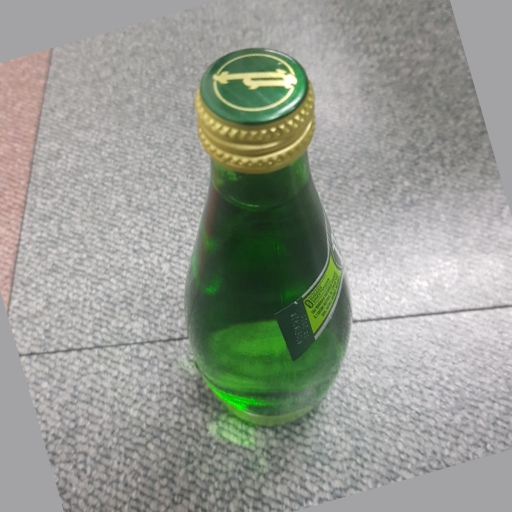Glass_4: (177, 46, 359, 432)
